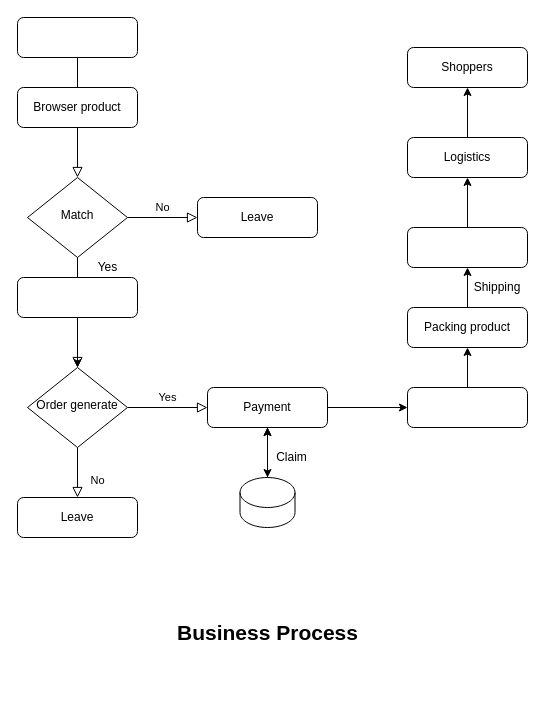
Image size: 545x705. Some labels were removed from this diagram. The box of each missing label's shape, as (x1, y1, x2, y2) in pixels:
Bank: (239, 476, 295, 528)
Delivery Process: (406, 226, 528, 268)
Select Product: (16, 276, 138, 318)
Seller: (406, 386, 528, 428)
User: (16, 16, 138, 58)
